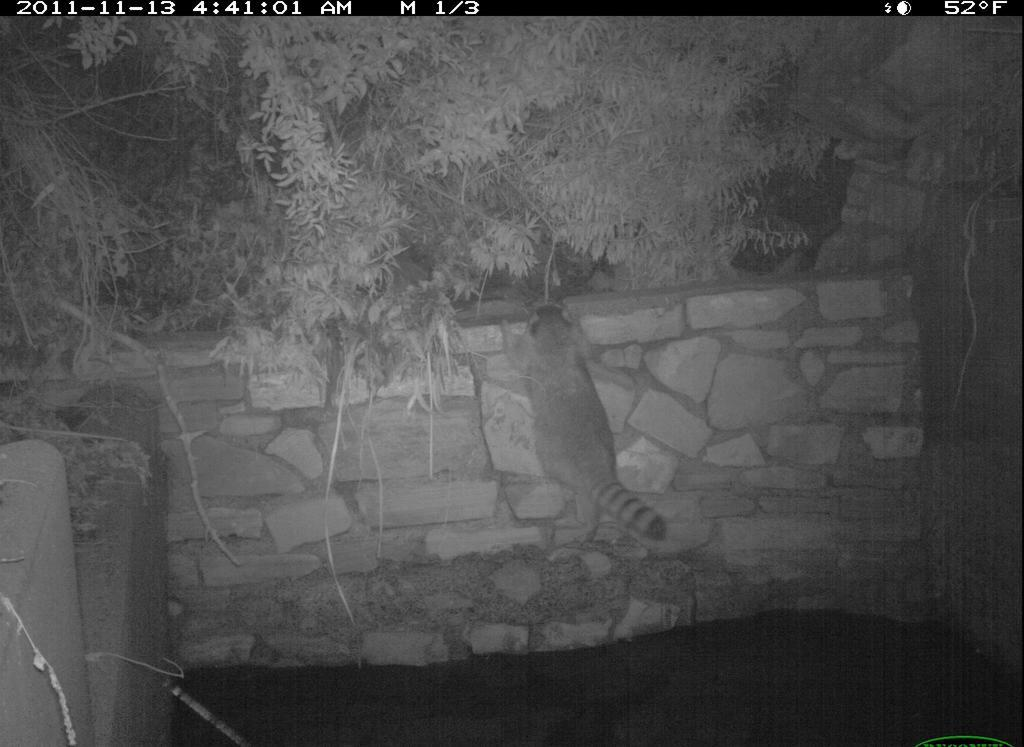raccoon: (493, 300, 673, 557)
